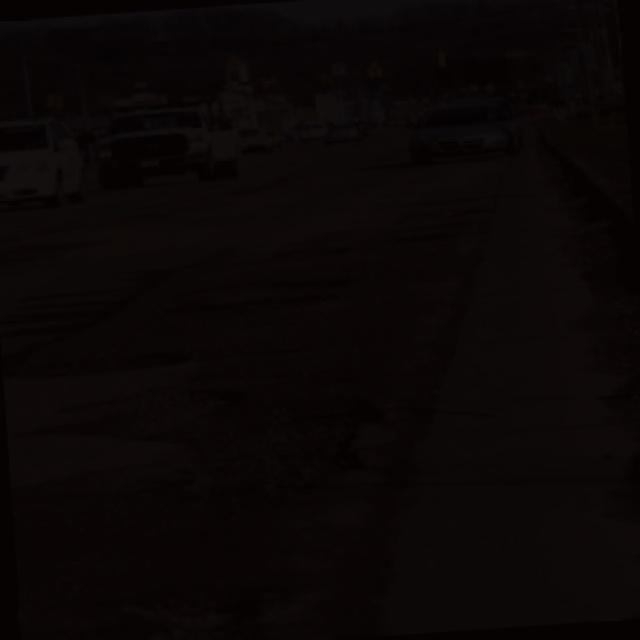Pothole: (0, 346, 209, 492), (169, 272, 352, 320), (292, 386, 382, 478), (120, 586, 271, 640), (396, 214, 463, 245)
